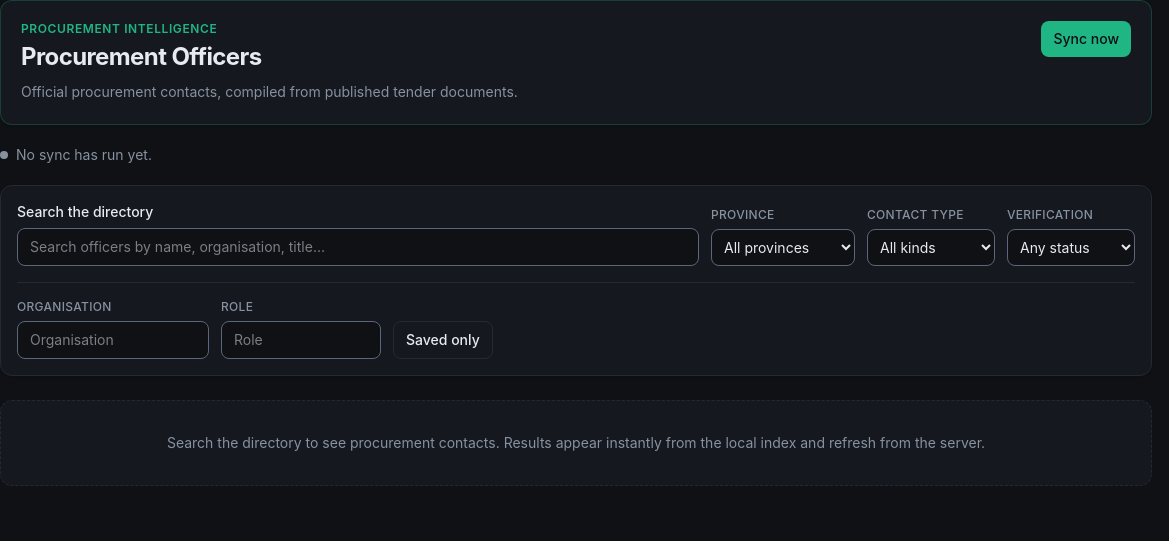
it: ProcurementOfficerDirectory shell › applies a province filter to the local pass
The width and height of the screenshot is (1169, 541).
Select "Gauteng" in the dropdown named "Filter by province" at (783, 247), box [711,229,855,266]
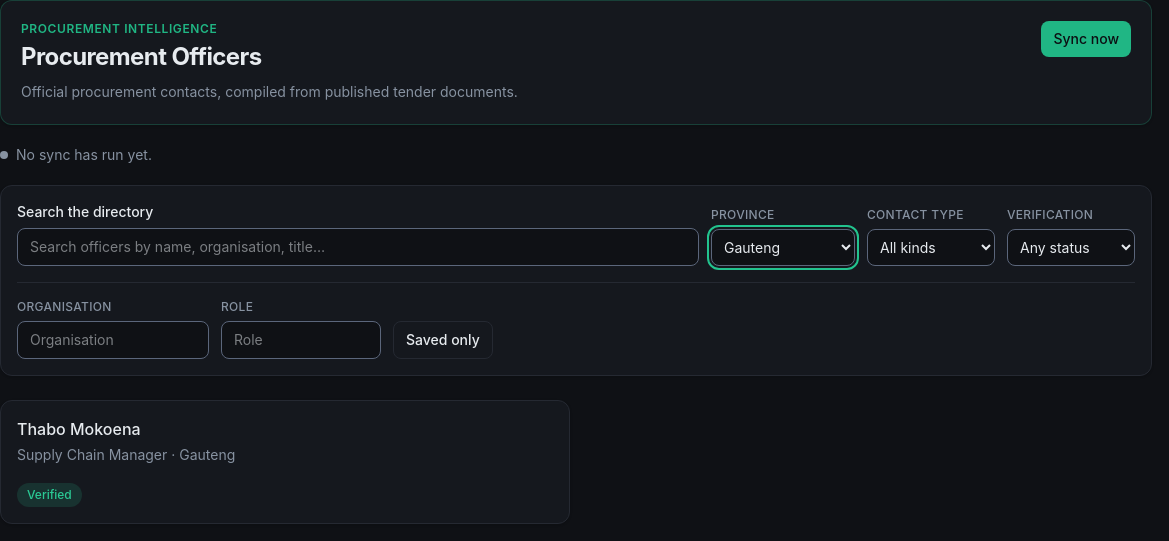
Check: the text "Thabo Mokoena" is shown, box [17,419,141,439]
